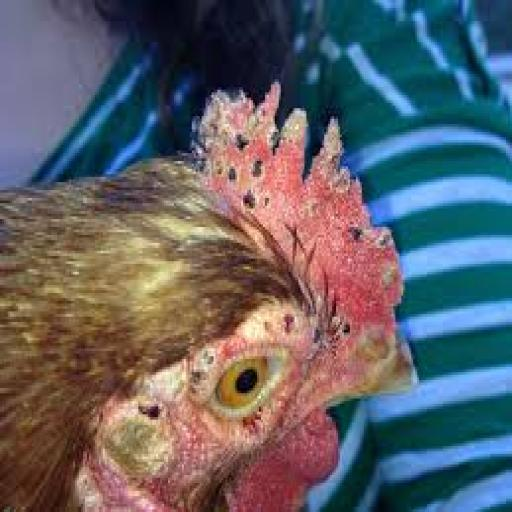disease: (195, 79, 412, 331), (71, 298, 329, 509)
